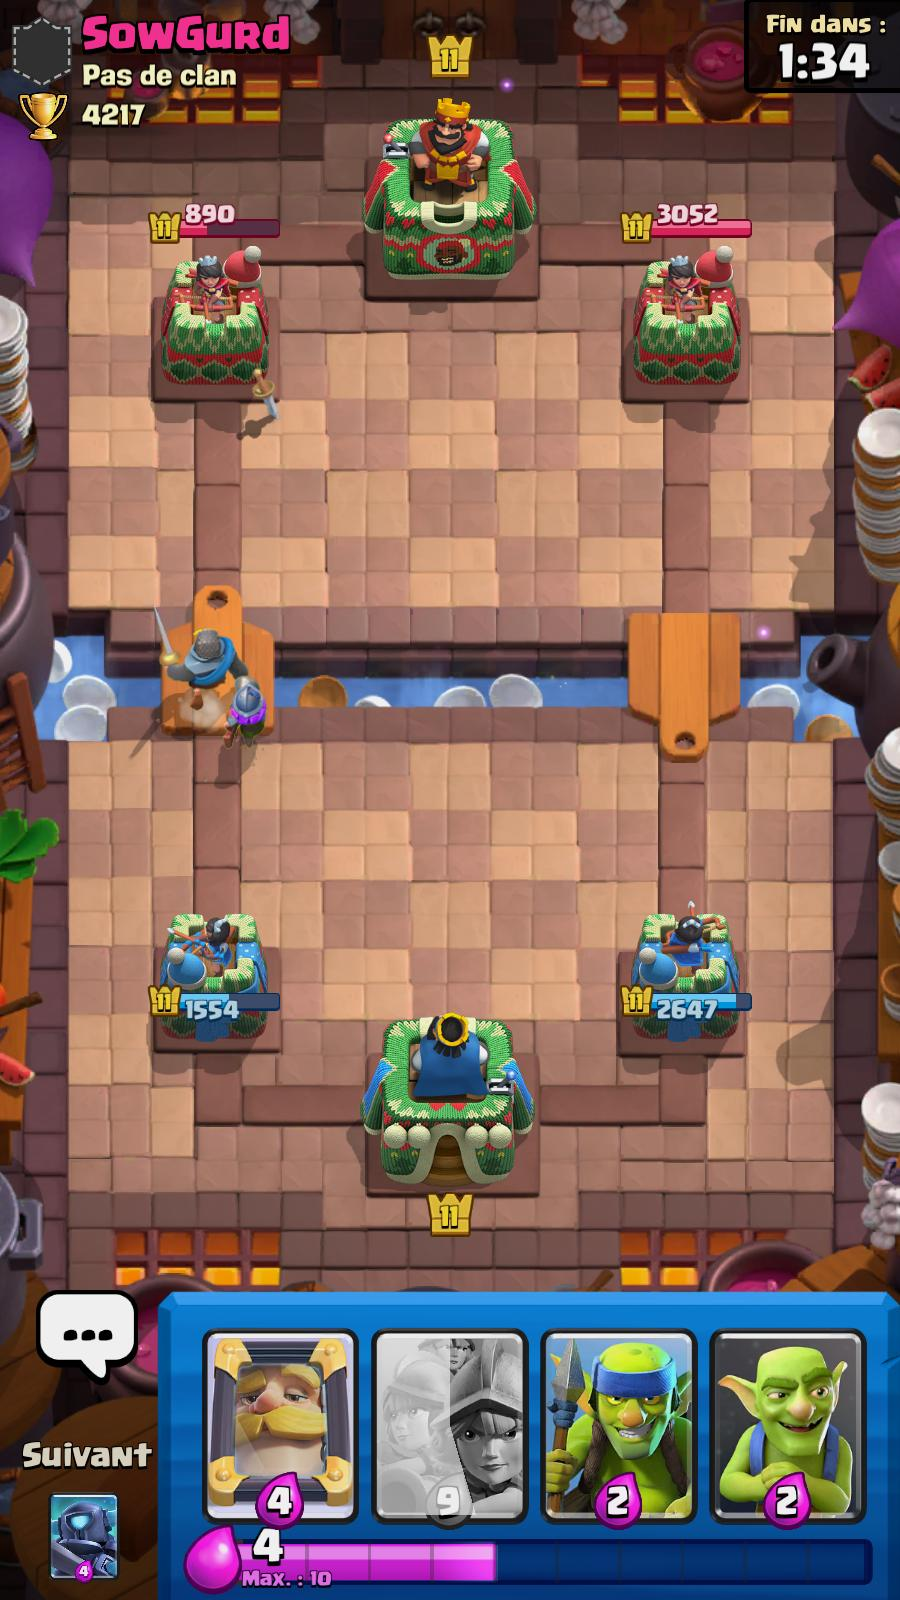chevalier: (155, 607, 244, 705)
mousquetaire: (222, 678, 271, 748)
